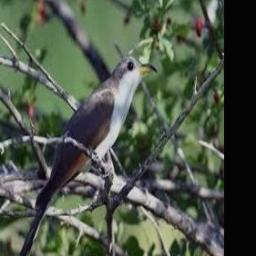Cuckoo: (13, 56, 158, 256)
